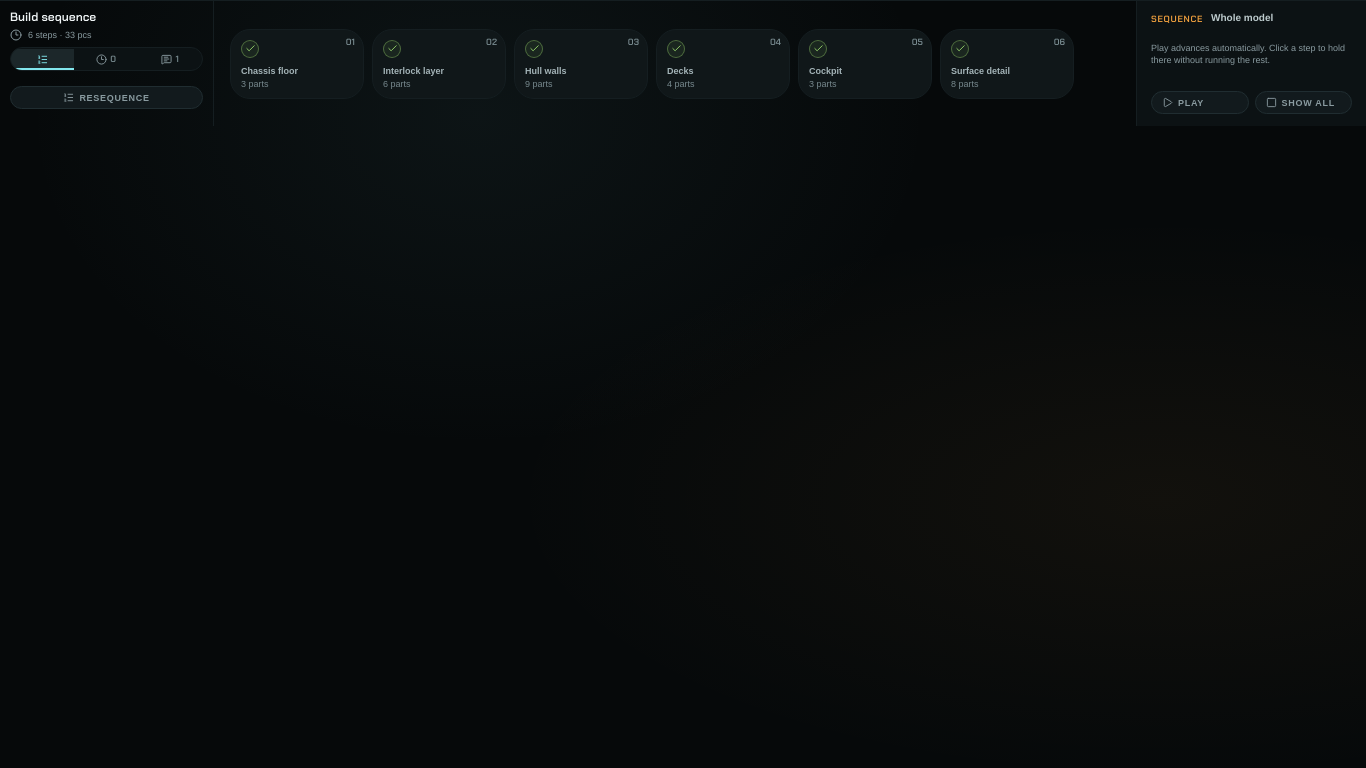
Test: build playback and edit history chrome › selects a scrubbed step, then leaves that selection alone while autoplay runs
The image size is (1366, 768).
Click the button titled "Hold the build at step 2:": (439, 64) [372, 29, 506, 99]
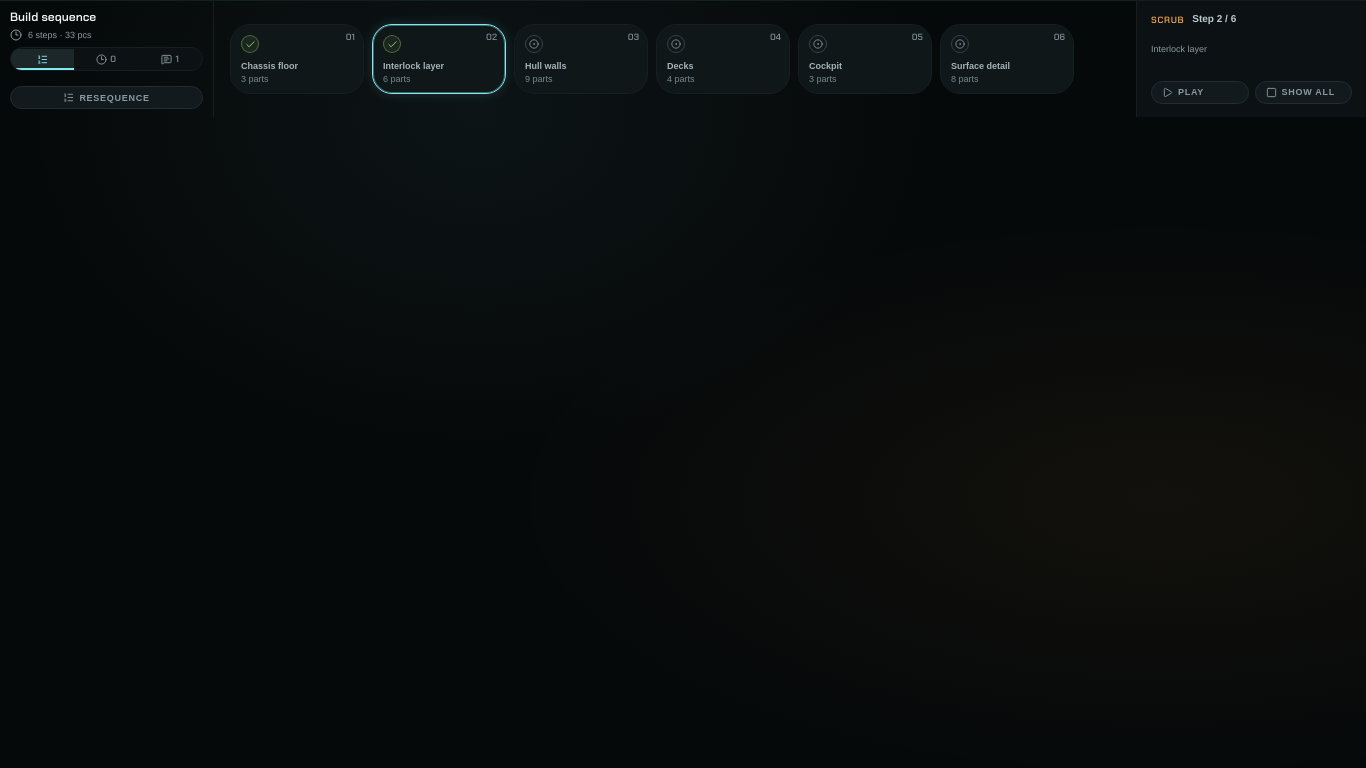
Click the button "PLAY": (1200, 92) [1151, 81, 1248, 104]
Wait 1600 ms
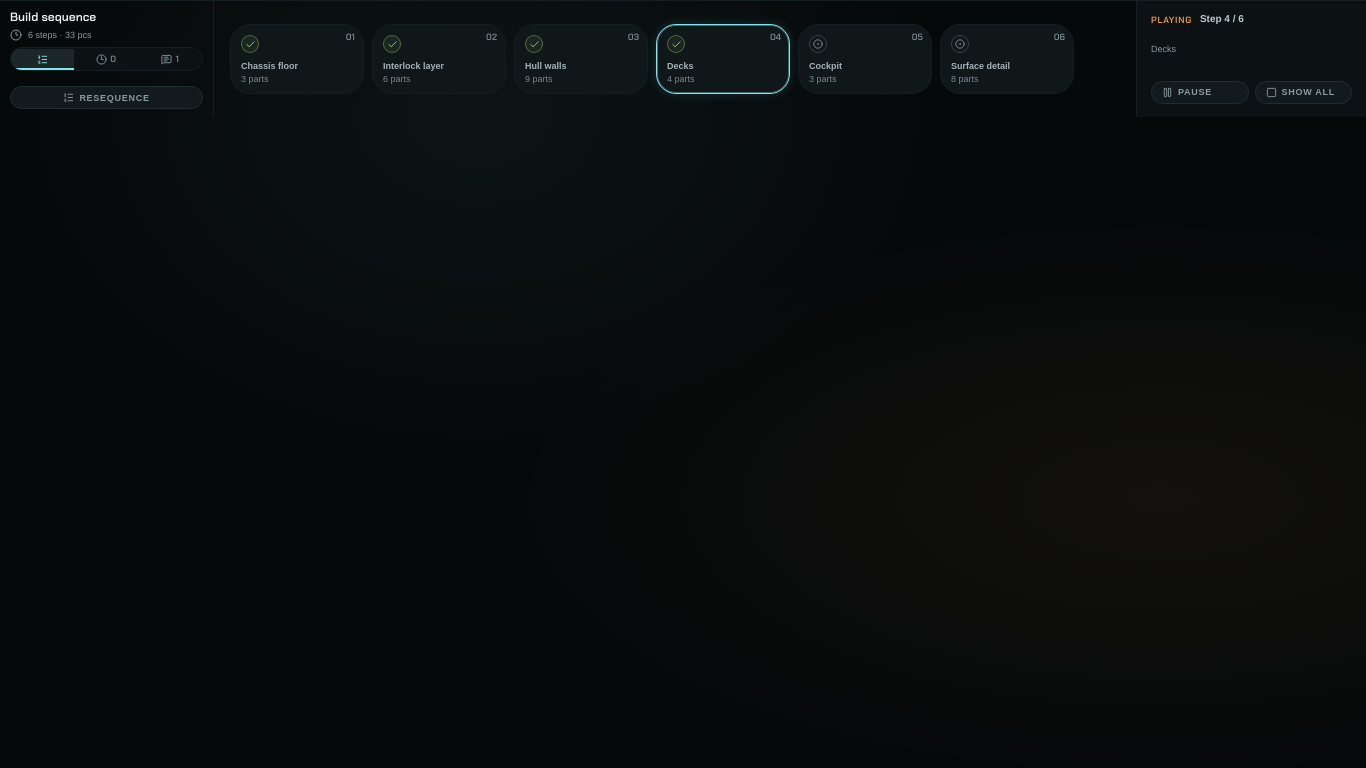
Expected: the text "Step 4 / 6" is shown, [1200, 14, 1244, 25]
